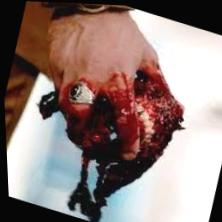Fire: (38, 61, 182, 222)
